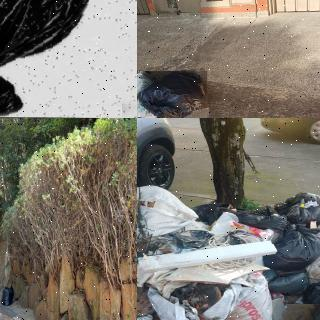Garbage: (0, 0, 129, 118), (145, 262, 275, 320), (137, 69, 207, 118), (268, 225, 320, 268), (137, 63, 164, 118), (281, 193, 320, 224), (0, 283, 16, 307)
